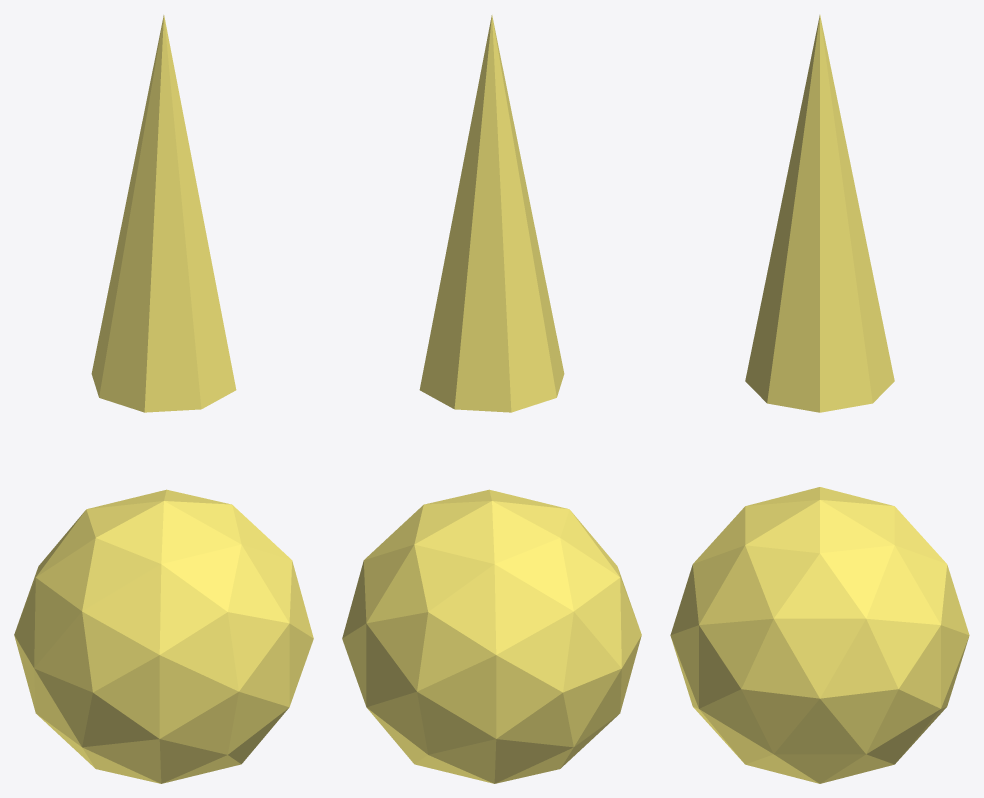
File: sonic_sphere_projectile.glb
3 views of the same model, side by side, from view 1: azimuth 30°, elevation 25°; view 2: azimuth 150°, elevation 25°; view 3: azimuth 270°, elevation 25° (orthographic).
Parts seen in each view (by area): view 1: projectile_core, trail; view 2: projectile_core, trail; view 3: projectile_core, trail.
Part boxes in pixels (<box>): projectile_core: <box>14,489,313,783</box>; trail: <box>91,15,236,412</box>; projectile_core: <box>342,489,641,783</box>; trail: <box>419,15,564,412</box>; projectile_core: <box>670,487,969,783</box>; trail: <box>745,15,894,412</box>.
Size of the model in its own units: 0.48 by 1.34 by 0.48.
